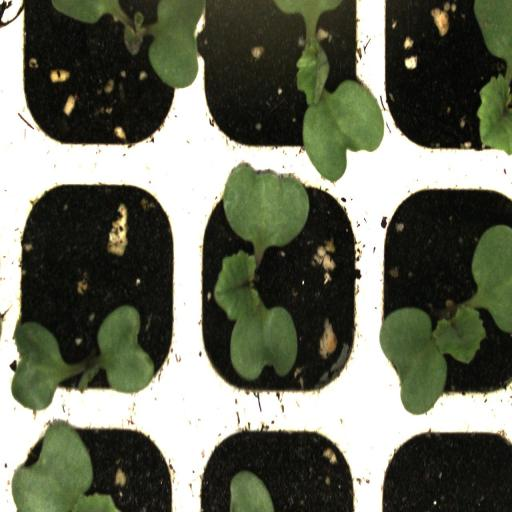seedling: (187, 160, 374, 400), (374, 160, 512, 402), (190, 0, 374, 156), (18, 0, 188, 153)
